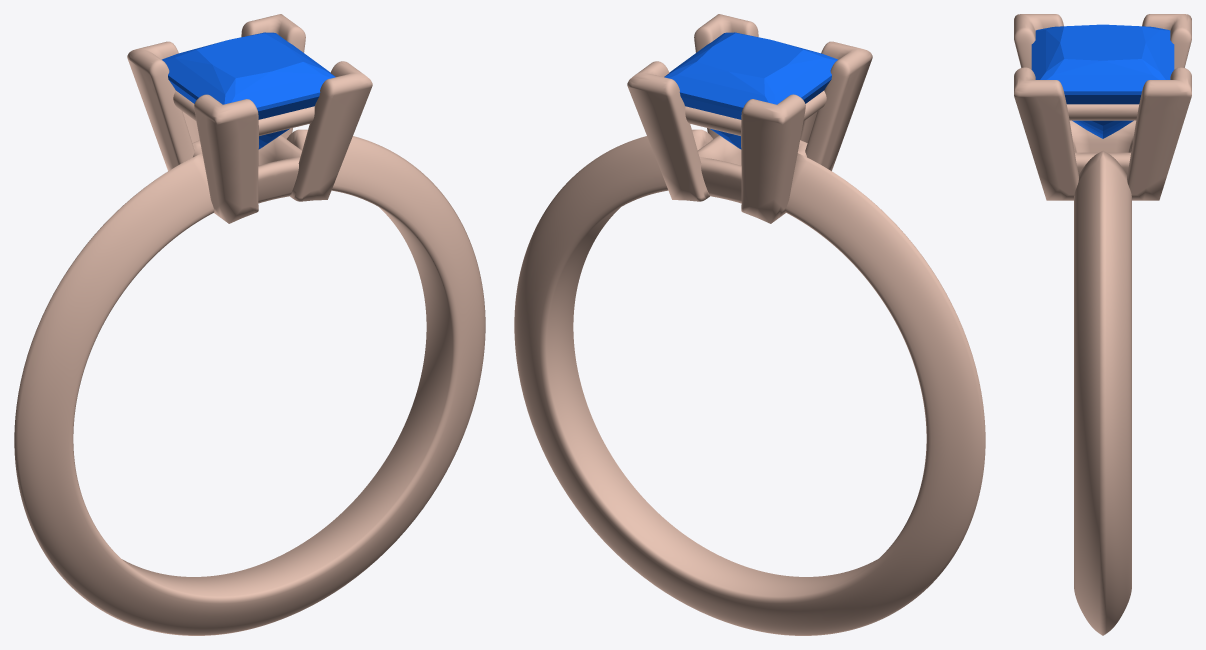
File: bluesapphire-princess-rosegold-protectededges4prongs-knifeedge-solitaire.glb
The picture shows the model from 3 angles, left to right: view 1: azimuth 30°, elevation 25°; view 2: azimuth 150°, elevation 25°; view 3: azimuth 270°, elevation 25°; orthographic projection.
Parts seen in each view (by area): view 1: metal, stone; view 2: metal, stone; view 3: metal, stone.
Part boxes in pixels (<box>): metal: <box>14,14,485,635</box>; stone: <box>162,32,335,149</box>; metal: <box>514,14,985,635</box>; stone: <box>664,32,837,149</box>; metal: <box>1014,14,1191,635</box>; stone: <box>1031,24,1174,138</box>.
Size of the model in its own units: 20.5 by 23.85 by 6.77.
